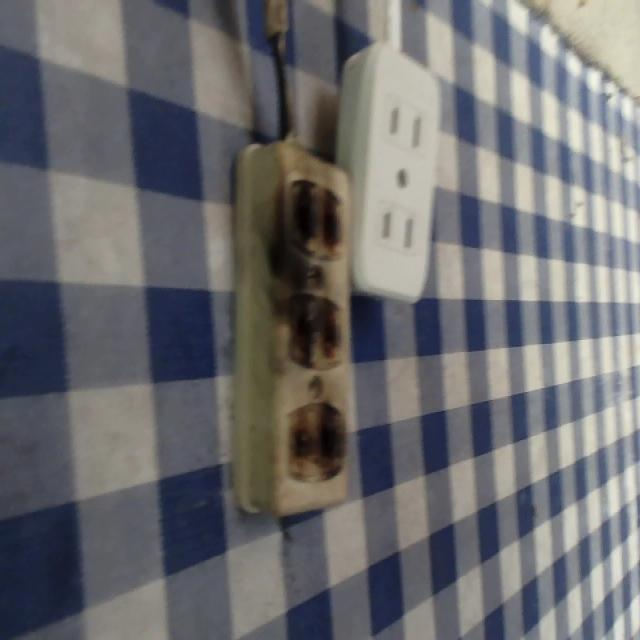-: (278, 171, 354, 265), (280, 286, 350, 374), (280, 398, 346, 478)
